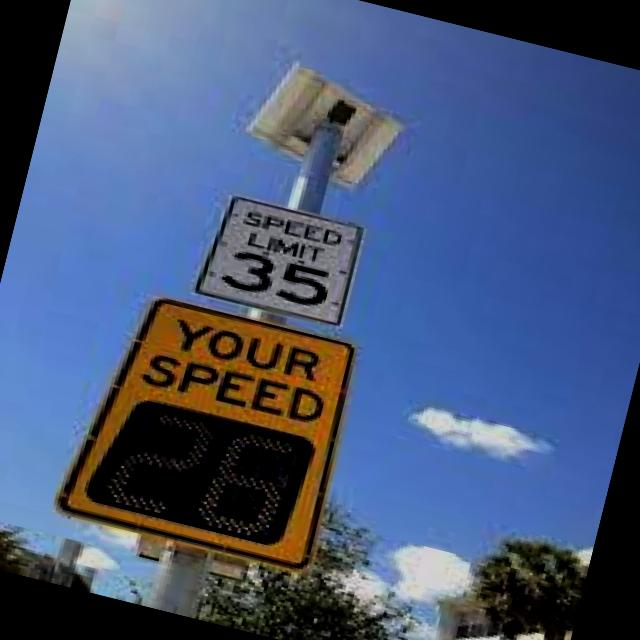Speed Limit Signs: (191, 186, 371, 330)
